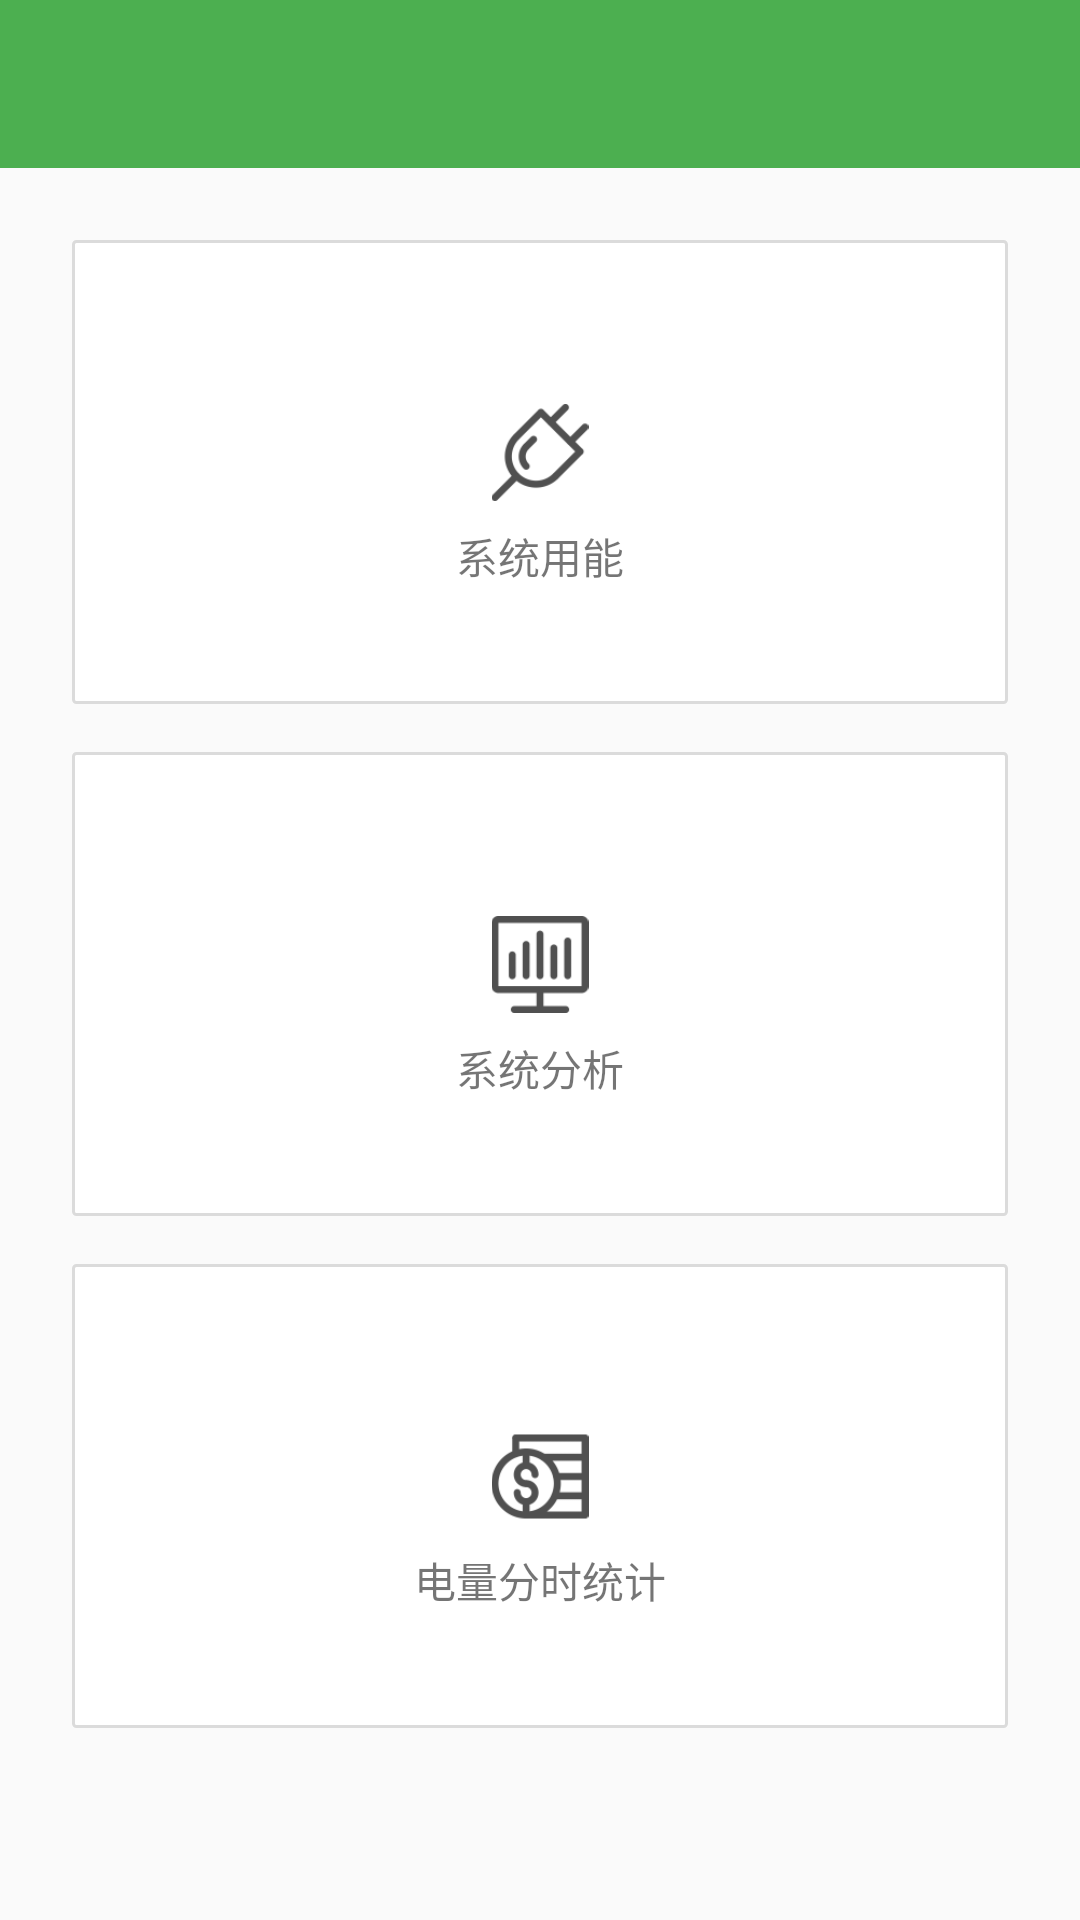

Icon bounding boxes for this 1080x1920 phone screenshot, format (x1=x1, y1=y1, x2=x2, y2=y2):
power: (x1=492, y1=404, x2=589, y2=501)
